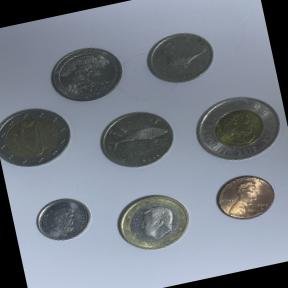1 Euro-B: (106, 182, 202, 260)
2 Euro-B: (0, 99, 79, 178)
Canada-10cent-B: (28, 188, 98, 248)
Canada-2Dollar-B: (183, 82, 288, 177)
Croatia-2Kune-B: (87, 98, 185, 183)
US-1cent-B: (206, 164, 284, 228)
US-25cent-B: (43, 39, 130, 110)
